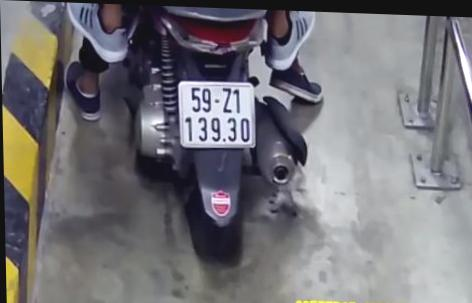License_Plate: (171, 74, 263, 156)
